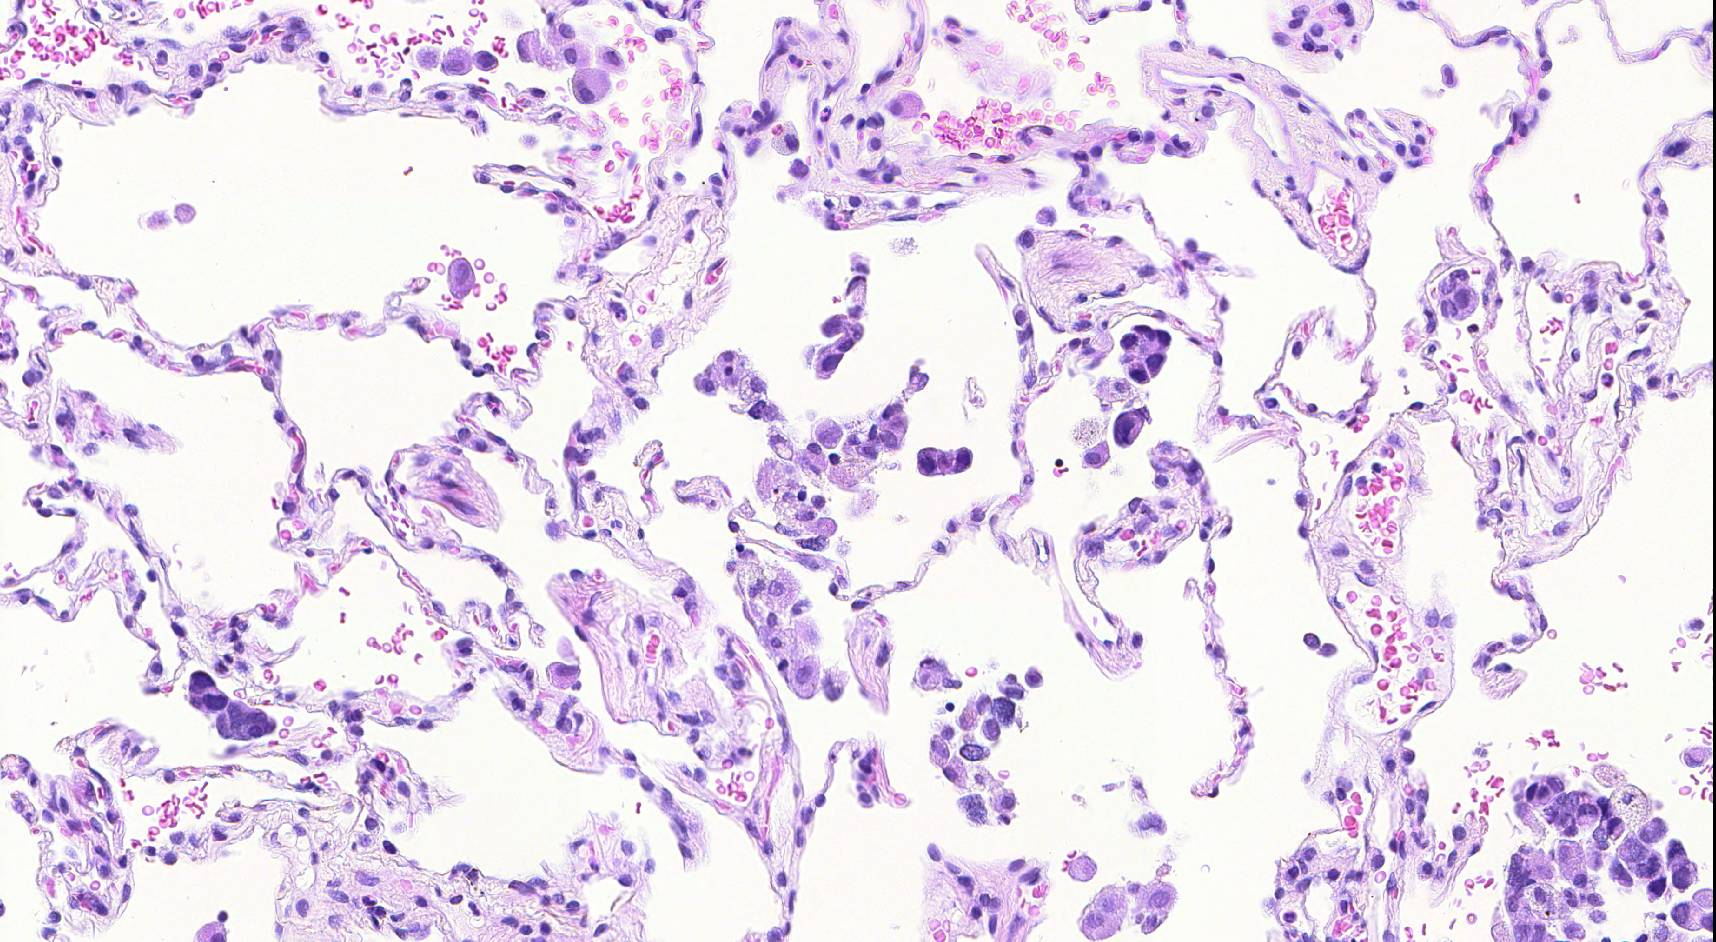stas: (928, 666, 1052, 828), (183, 666, 279, 757), (808, 256, 871, 385), (1112, 316, 1183, 389), (1428, 260, 1485, 335), (1106, 403, 1161, 456), (914, 438, 983, 479)
